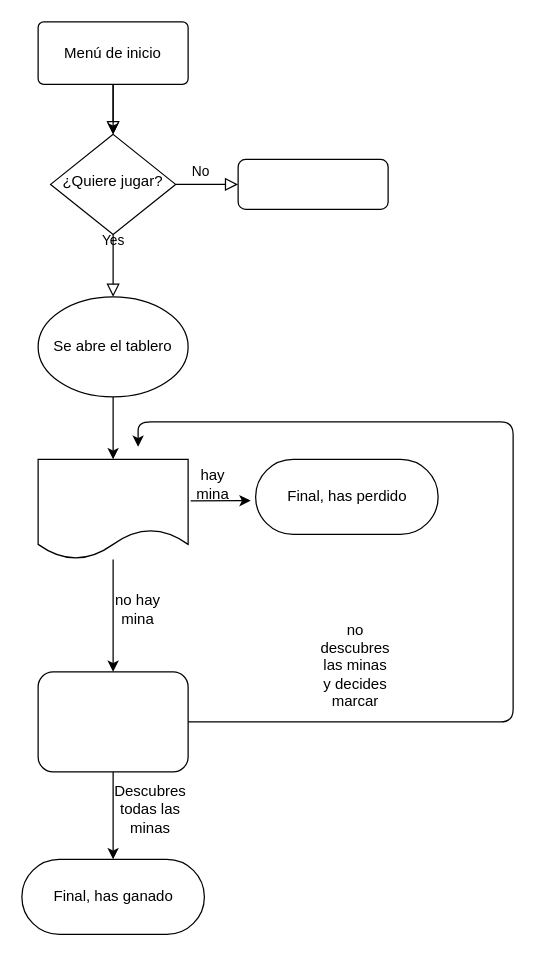
Some shapes in this 545 by 956 pixel diagram are drawn without their labels. The shapes that lost their labels are listed below. From the top down, each one's centre as x and y in pixels, then its label:
At point 312,183: "Se cierra el juego".
At point 112,508: "Donde has marcado".
At point 112,721: "Se descubren números donde puede haber minas".
